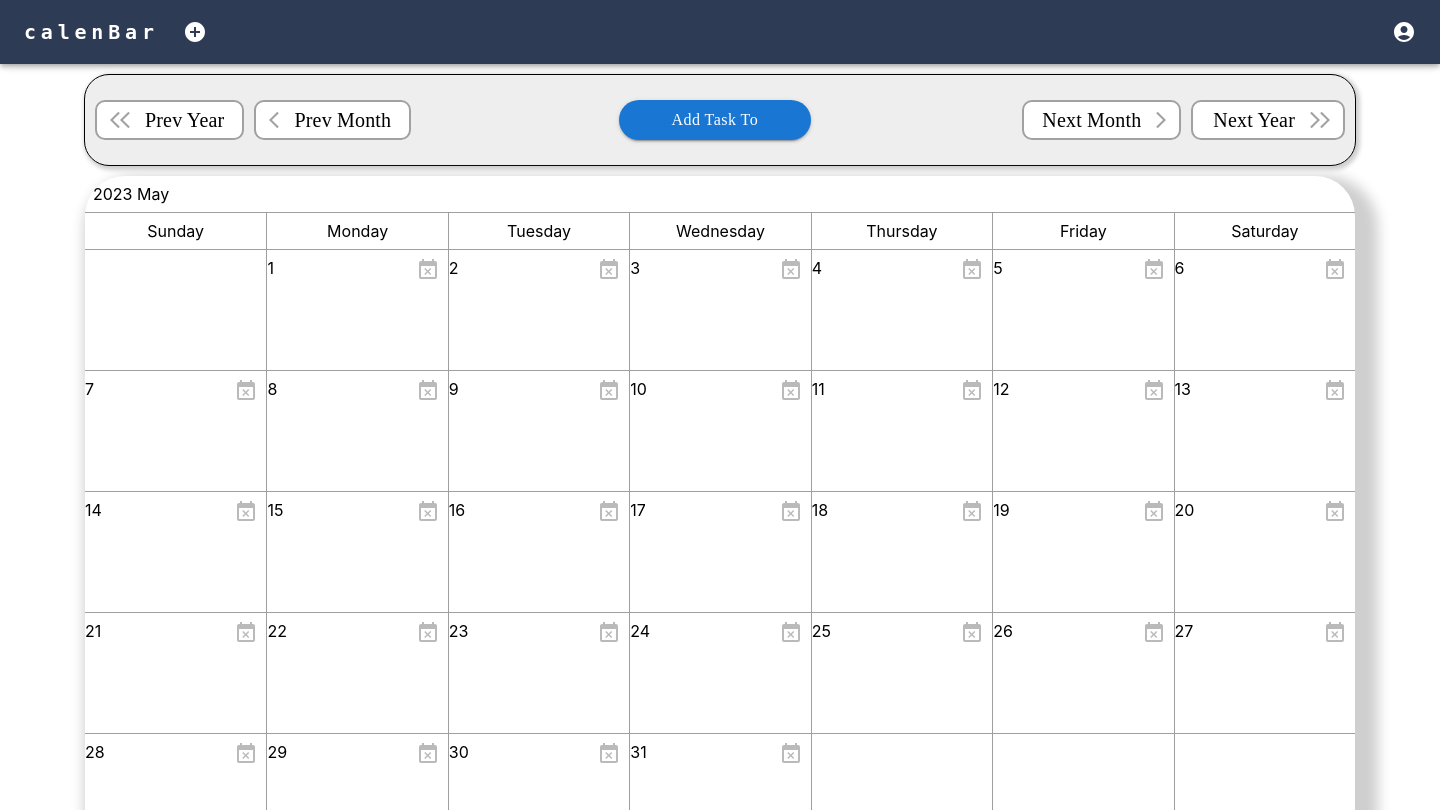
Test: nextMonth displays next month's calendar view properly for 2023 May
The width and height of the screenshot is (1440, 810).
What coordinates should you click on to do the following:
click the button "next month"
I would click on:
 (1102, 120)
Its box is [1022,100,1181,140].
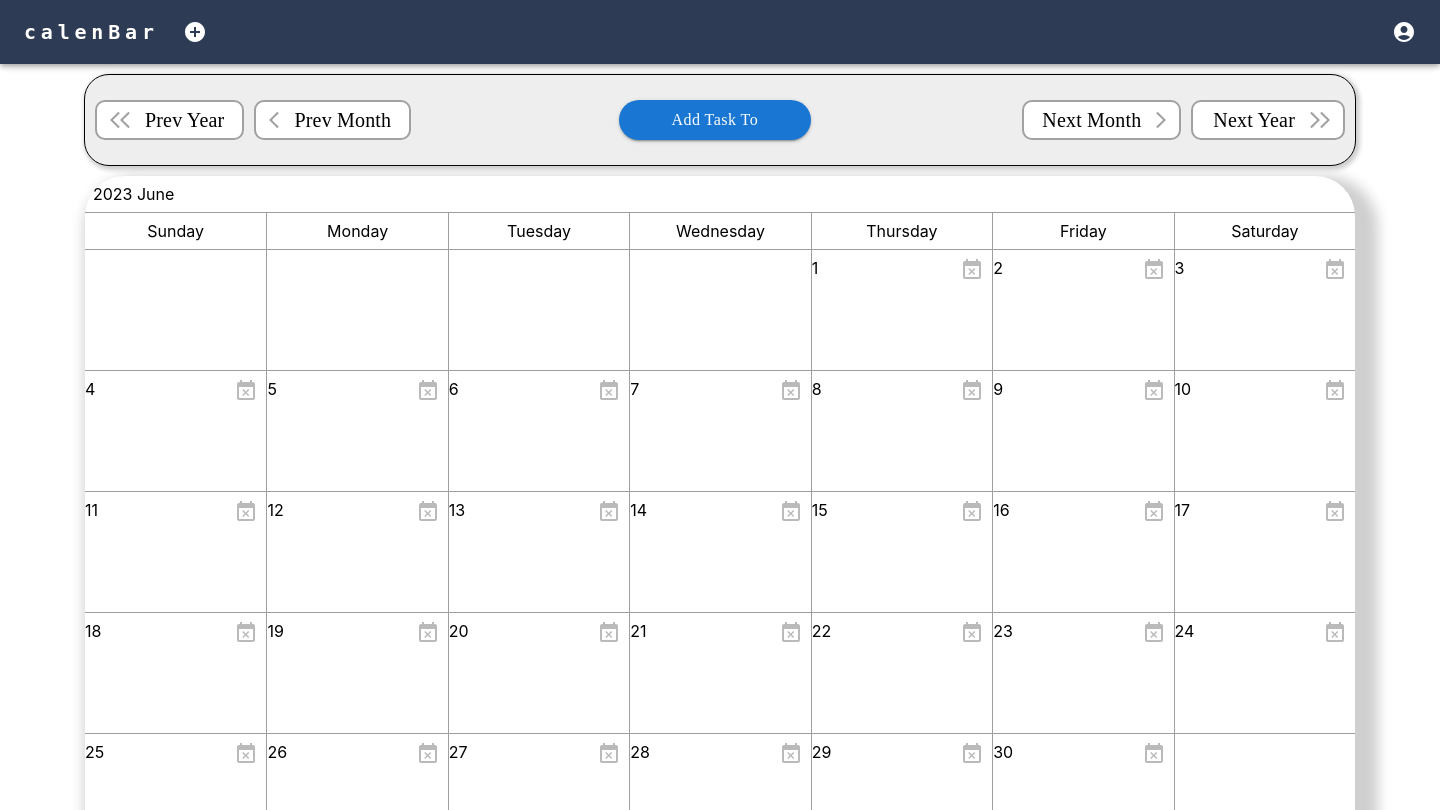
Now the text "2023 June" is shown, box [93,184,174,204]
